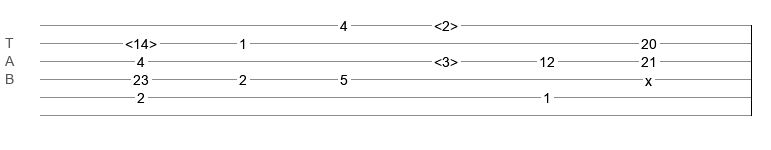1: (239, 36, 247, 46), (543, 90, 551, 100)
12: (539, 54, 555, 64)
2: (137, 90, 145, 100), (239, 72, 247, 82)
20: (641, 36, 657, 46)
21: (641, 54, 657, 64)
23: (133, 72, 149, 82)
4: (137, 54, 145, 64), (340, 18, 348, 28)
5: (340, 72, 348, 82)
harmonic: (125, 36, 157, 46), (434, 54, 458, 64), (434, 18, 458, 28)
x: (645, 73, 652, 81)
